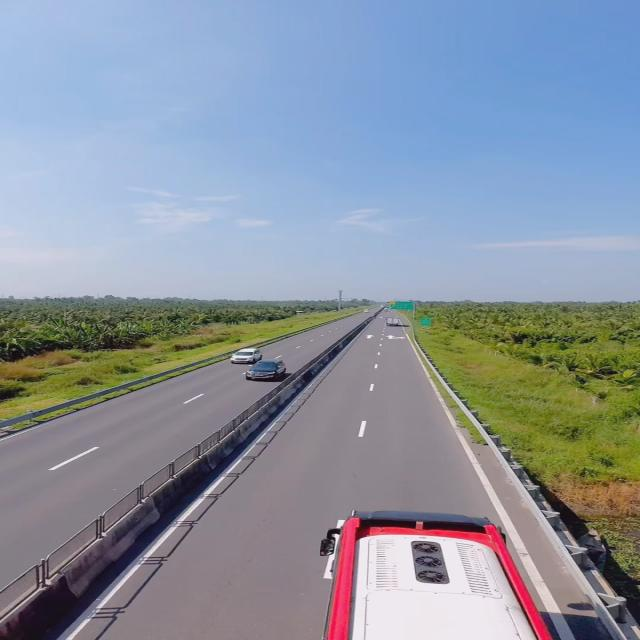bus: (316, 506, 554, 640)
car: (247, 356, 288, 383), (233, 346, 261, 367)
